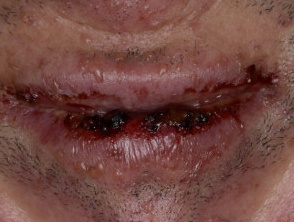SJS-TEN: (0, 45, 294, 204)
